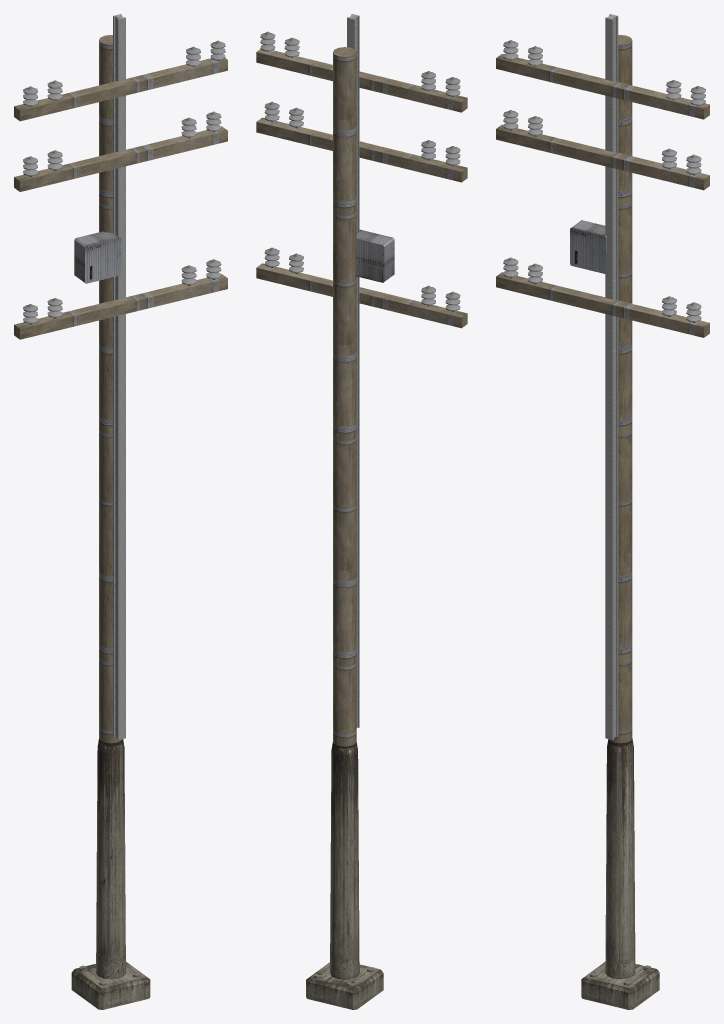
File: CT_Powerpole_03.FBX
The picture shows the model from 3 angles, left to right: view 1: azimuth 30°, elevation 25°; view 2: azimuth 150°, elevation 25°; view 3: azimuth 330°, elevation 25°; orthographic projection.
Parts seen in each view (by area): view 1: CT_Powerpole_03; view 2: CT_Powerpole_03; view 3: CT_Powerpole_03.
Boxes of the visible parts, <box> form: CT_Powerpole_03: <box>14,14,227,1009</box>; CT_Powerpole_03: <box>256,14,467,1009</box>; CT_Powerpole_03: <box>496,14,709,1009</box>.
Size of the model in its own units: 160 by 723 by 44.64.
